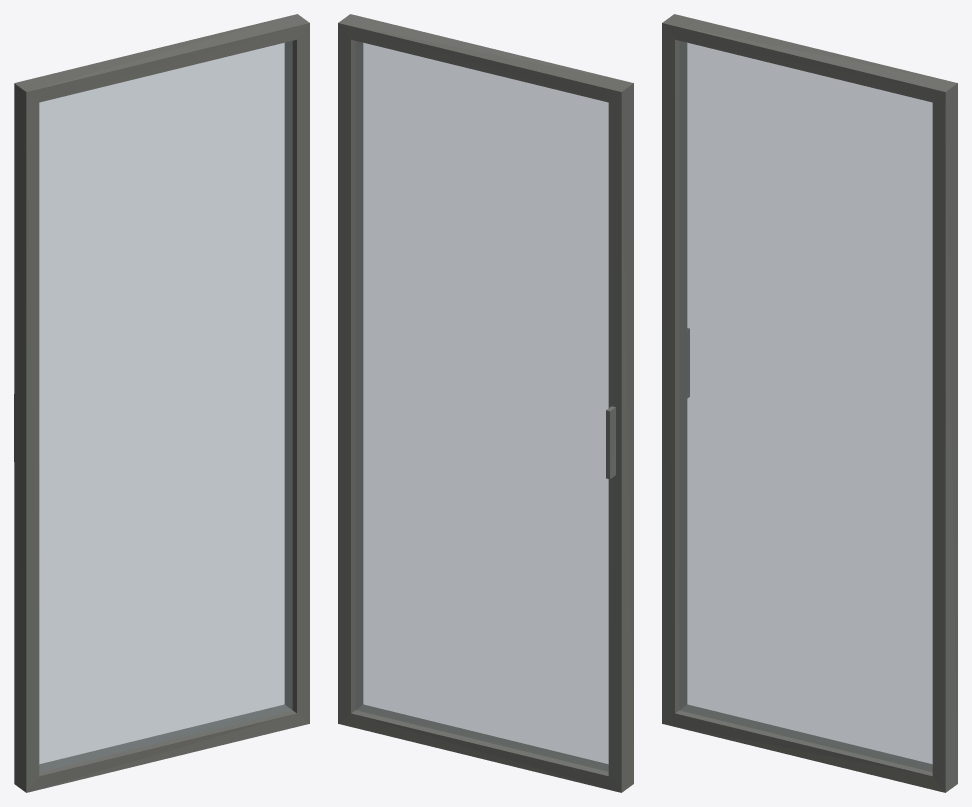
File: hs_garden_gate.glb
The picture shows the model from 3 angles, left to right: view 1: azimuth 30°, elevation 25°; view 2: azimuth 150°, elevation 25°; view 3: azimuth 330°, elevation 25°; orthographic projection.
Parts seen in each view (by area): view 1: garden_gate; view 2: garden_gate; view 3: garden_gate.
Boxes of the visible parts, <box> form: garden_gate: <box>14,14,309,792</box>; garden_gate: <box>338,14,633,792</box>; garden_gate: <box>662,14,957,792</box>.
Bounding box in the file's own units: 1.14 × 2.69 × 0.1257.
